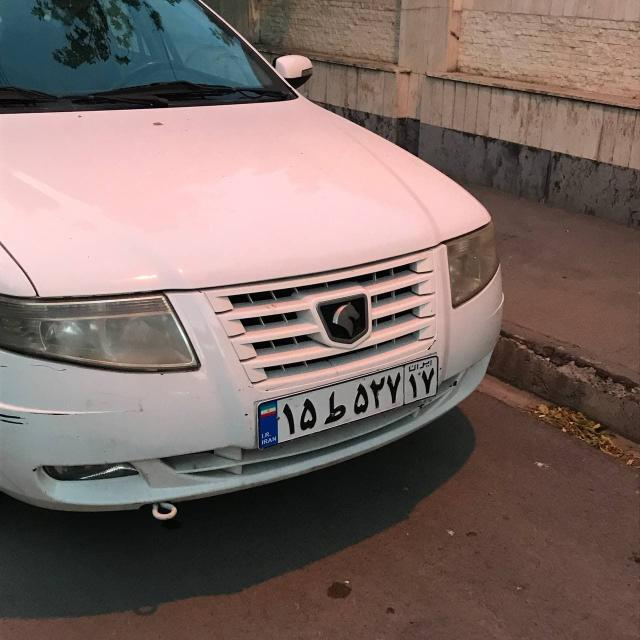Plates: (246, 348, 448, 449)
